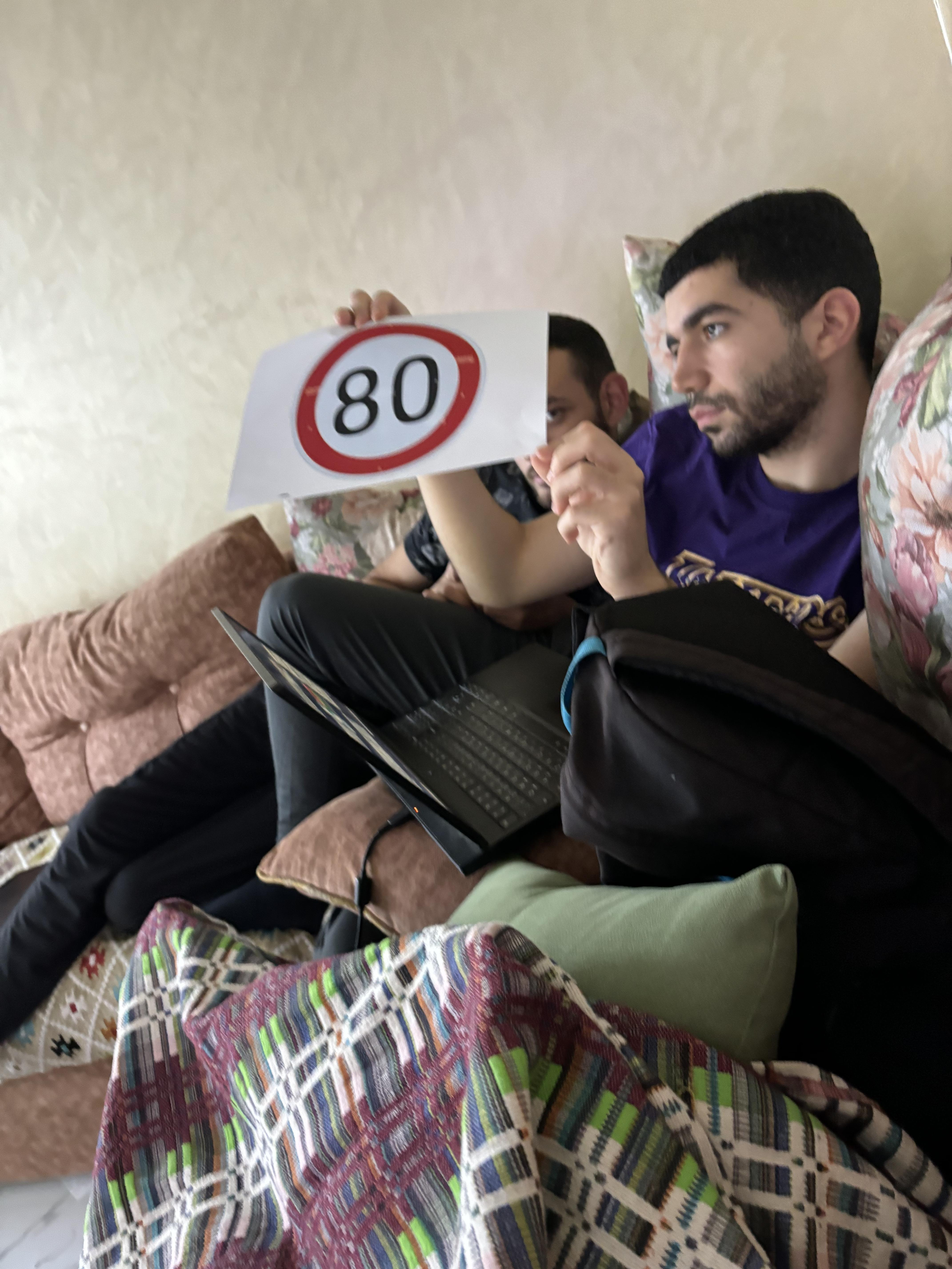80-Speed: (296, 323, 484, 472)
